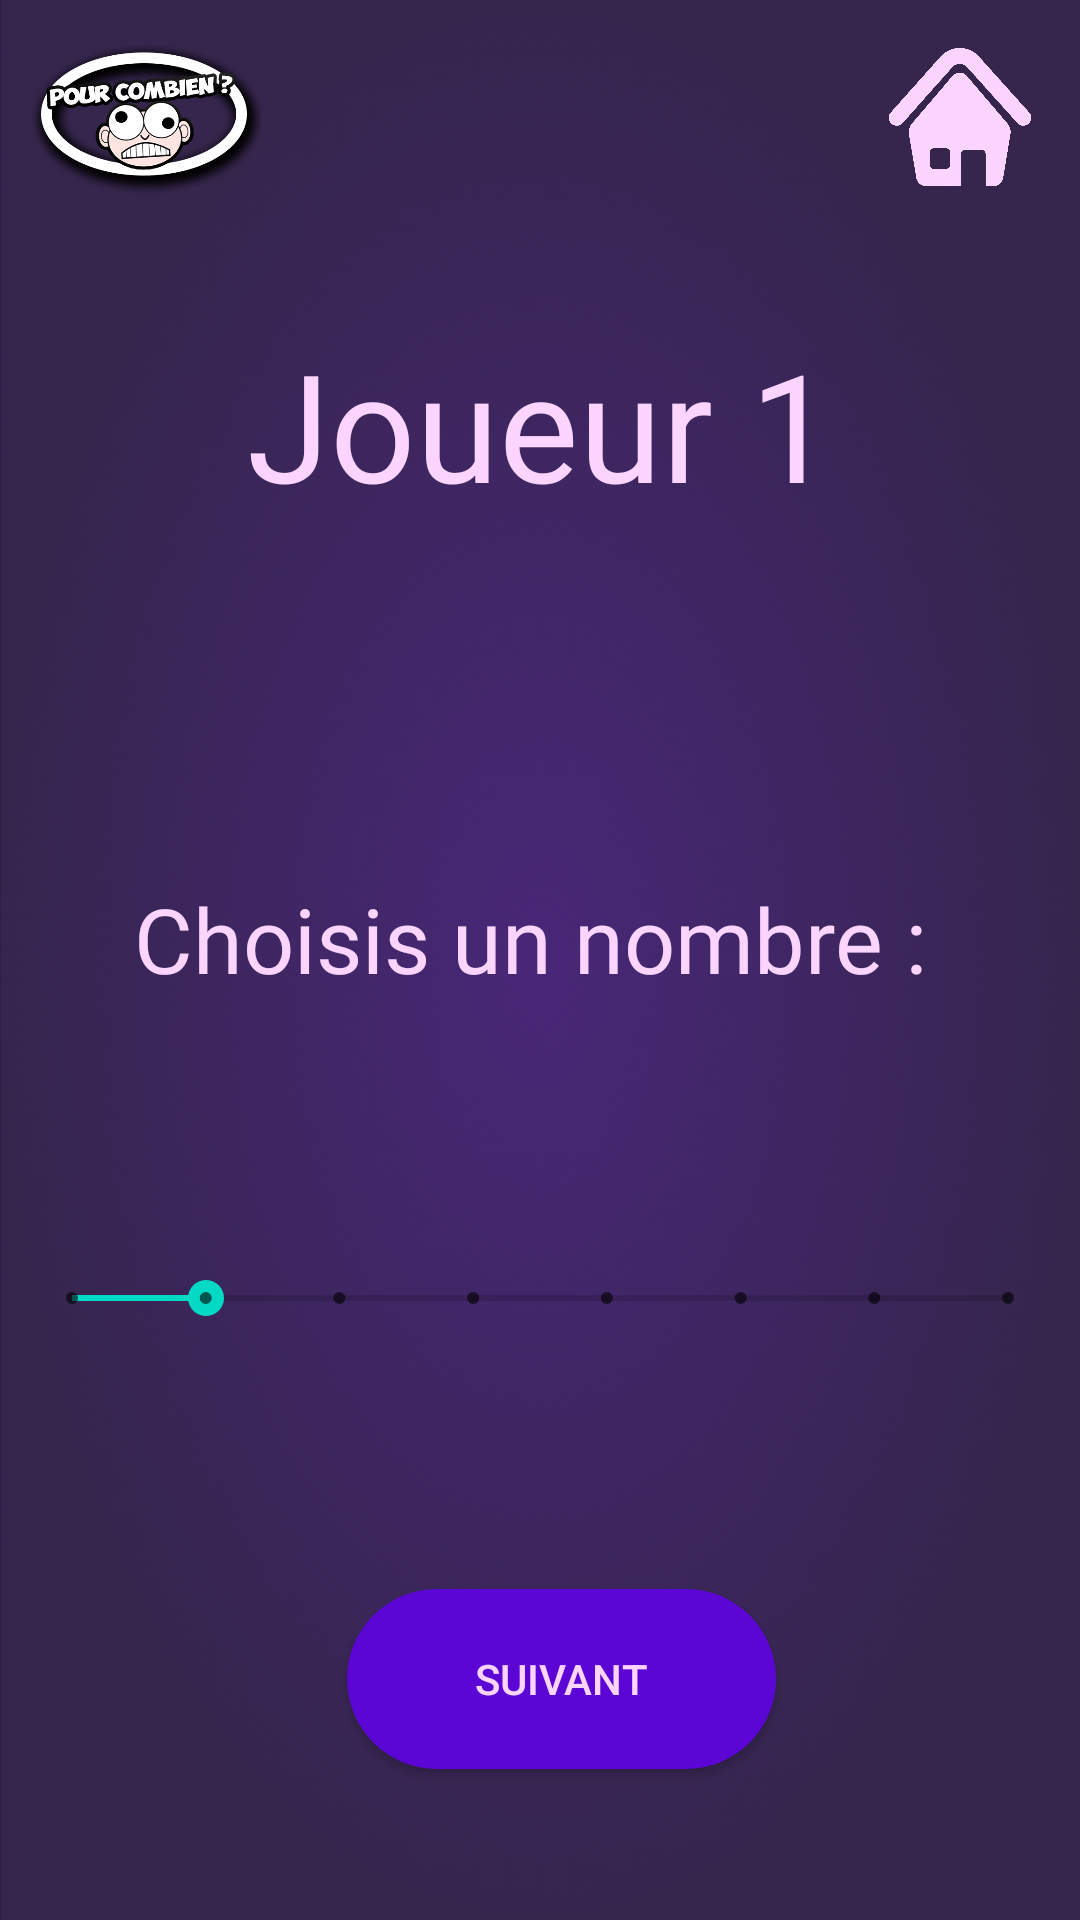

Icons on this 1080px×1920px Android screen, each with the point to tap as (x,y):
Bouton pour retourner à la page d'accueil: (960,117)
